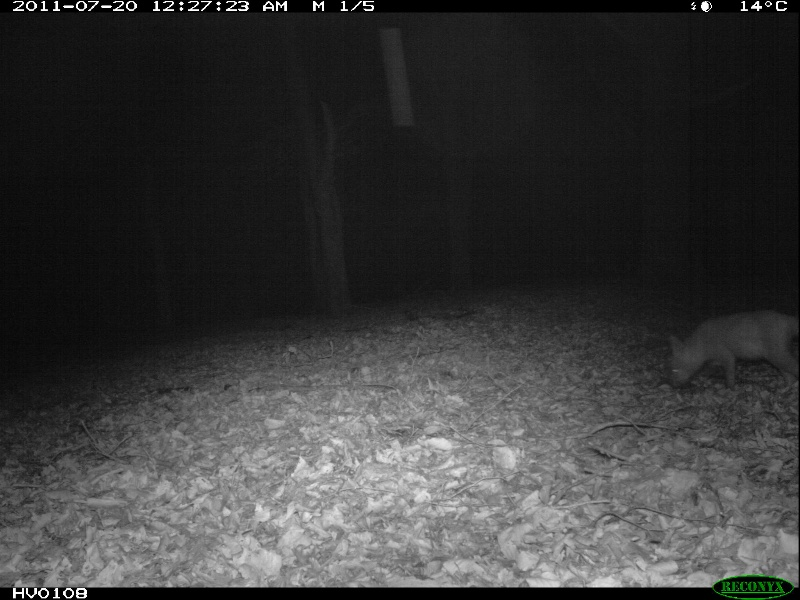fox: (662, 307, 800, 398)
